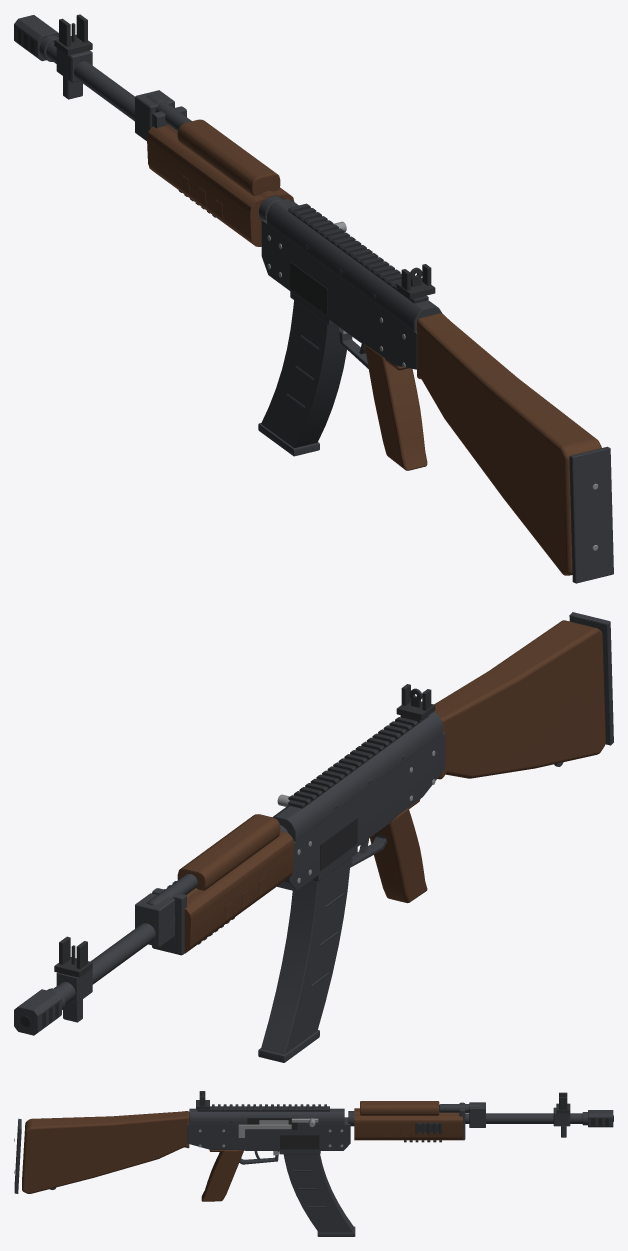
File: wpn_drover_762.glb
3 views of the same model, one above another, from view 1: azimuth 30°, elevation 25°; view 2: azimuth 150°, elevation 25°; view 3: azimuth 270°, elevation 25° (orthographic). The views are drawn at different scales.
Visible parts, largest first — view 1: Stock, Magazine, Receiver, Handguard, StockPlate, TopCover, Grip, UpperGuard, CoverRail, IronSights, GasBlock, Barrel (+2 smaller); view 2: Stock, Magazine, Receiver, Handguard, TopCover, UpperGuard, Grip, CoverRail, GasBlock, IronSights, Barrel, MuzzleBrake (+2 smaller); view 3: Stock, Receiver, Magazine, Handguard, TopCover, UpperGuard, ReceiverDetails, Grip, Barrel, CoverRail, GasBlock, MuzzleBrake (+3 smaller).
Part boxes in pixels (x1,y1,x2,y2): Stock: (417,313,601,575); Magazine: (258,300,346,456); Receiver: (261,219,417,369); Handguard: (147,124,294,246); StockPlate: (569,446,613,583); TopCover: (267,199,442,331); Grip: (364,345,427,470); UpperGuard: (152,101,280,195); CoverRail: (288,203,428,303); IronSights: (54,14,435,299); GasBlock: (56,48,174,140); Barrel: (46,42,283,220); Stock: (434,620,605,779); Magazine: (258,858,350,1062); Receiver: (277,732,445,891); Handguard: (184,830,294,953); TopCover: (272,712,442,841); UpperGuard: (152,814,280,955); Grip: (370,799,427,903); CoverRail: (288,715,428,808); GasBlock: (56,893,174,1022); IronSights: (54,684,435,977); Barrel: (54,825,288,1004); MuzzleBrake: (14,988,65,1035); Stock: (22,1111,189,1193); Receiver: (187,1117,350,1164); Magazine: (283,1154,355,1236); Handguard: (354,1108,462,1140); TopCover: (189,1108,344,1124); UpperGuard: (360,1101,470,1140); ReceiverDetails: (198,1118,343,1155); Grip: (201,1150,243,1201); Barrel: (348,1111,582,1126); CoverRail: (197,1104,329,1111); GasBlock: (469,1102,570,1137); MuzzleBrake: (582,1110,613,1127).
Bounding box in the file's own units: 0.0558 × 0.2607 × 1.02.
